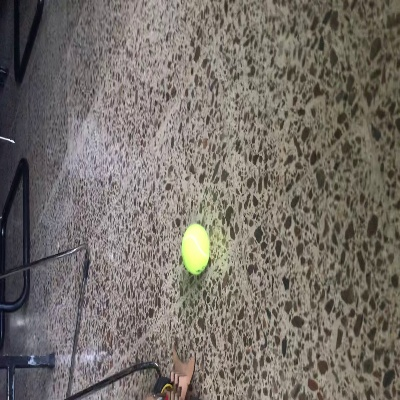Ball: (182, 224, 210, 274)
